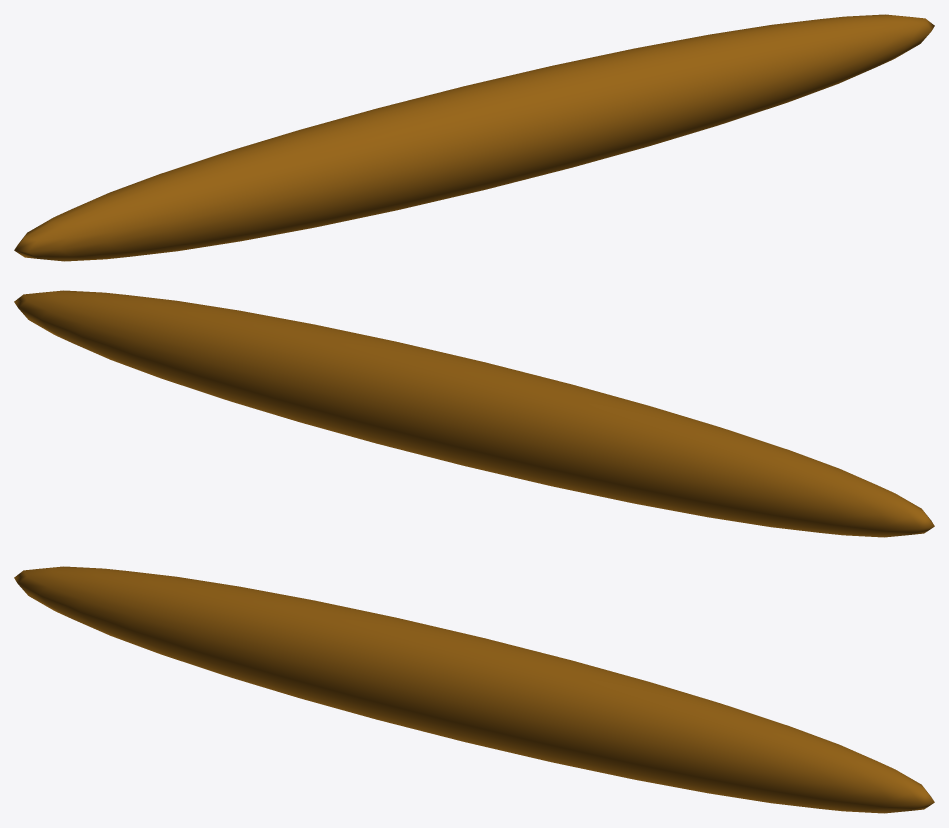
File: PrototypeRollingPin.fbx
The picture shows the model from 3 angles, top to bottom: view 1: azimuth 30°, elevation 25°; view 2: azimuth 150°, elevation 25°; view 3: azimuth 330°, elevation 25°; orthographic projection.
Parts seen in each view (by area): view 1: PrototypeRollingPin; view 2: PrototypeRollingPin; view 3: PrototypeRollingPin.
Boxes of the visible parts, left/top/right/bottom form: PrototypeRollingPin: left=14, top=14, right=934, bottom=261; PrototypeRollingPin: left=14, top=290, right=934, bottom=537; PrototypeRollingPin: left=14, top=566, right=934, bottom=813.
Bounding box in the file's own units: 1000 × 100 × 100.
